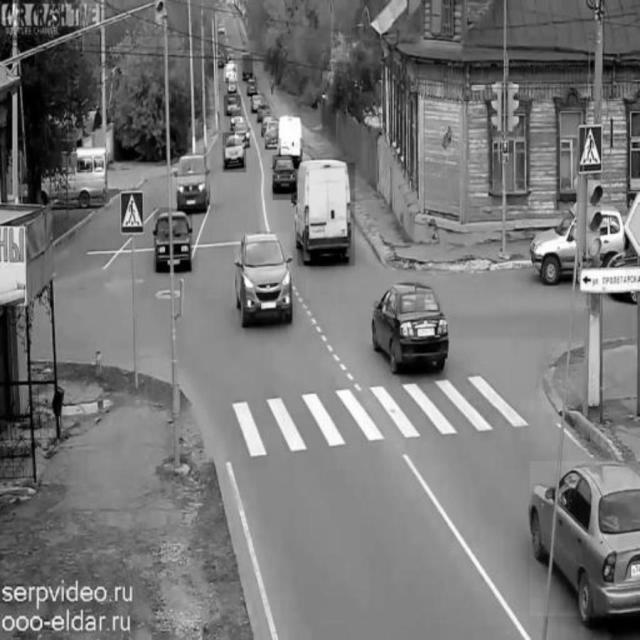vehicle: (530, 462, 640, 616), (368, 283, 450, 373), (536, 203, 626, 279), (298, 163, 355, 266), (235, 232, 291, 323), (42, 152, 112, 216), (154, 208, 192, 272), (174, 158, 211, 210), (273, 156, 298, 201), (223, 133, 247, 173), (265, 115, 287, 152), (235, 116, 255, 146), (224, 96, 241, 116), (251, 93, 266, 113), (224, 65, 238, 82)
